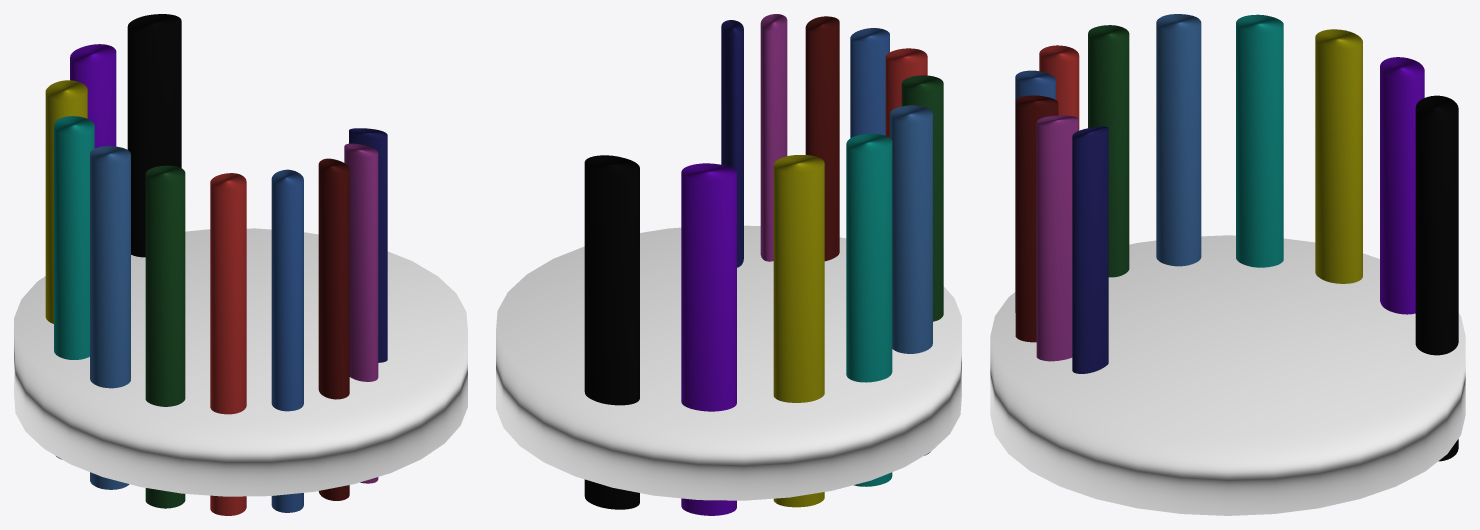
The picture shows the model from 3 angles, left to right: view 1: azimuth 30°, elevation 25°; view 2: azimuth 150°, elevation 25°; view 3: azimuth 270°, elevation 25°; orthographic projection. The views are drawn at different scales.
Visible parts, largest first — view 1: 柱体.001, 柱体.008, 柱体.007, 柱体.003, 柱体.009, 柱体.006, 柱体.010, 柱体.011, 柱体.012, 柱体.004, 柱体.005, 柱体.002; view 2: 柱体.001, 柱体.003, 柱体.004, 柱体.005, 柱体.006, 柱体.007, 柱体.011, 柱体.012, 柱体.002, 柱体.010, 柱体.008, 柱体.009; view 3: 柱体.001, 柱体.005, 柱体.006, 柱体.007, 柱体.003, 柱体.004, 柱体.012, 柱体.002, 柱体.008, 柱体.011, 柱体.009, 柱体.010.
Part boxes in pixels (x1=…): 柱体.001: x1=14, y1=228, x2=467, y2=496; 柱体.008: x1=145, y1=165, x2=185, y2=508; 柱体.007: x1=90, y1=146, x2=130, y2=489; 柱体.003: x1=127, y1=14, x2=181, y2=257; 柱体.009: x1=210, y1=173, x2=246, y2=515; 柱体.006: x1=54, y1=116, x2=94, y2=459; 柱体.010: x1=271, y1=169, x2=303, y2=512; 柱体.011: x1=318, y1=158, x2=349, y2=500; 柱体.012: x1=344, y1=143, x2=378, y2=483; 柱体.004: x1=70, y1=44, x2=116, y2=148; 柱体.005: x1=45, y1=80, x2=87, y2=323; 柱体.002: x1=349, y1=128, x2=387, y2=362; 柱体.001: x1=496, y1=225, x2=961, y2=500; 柱体.003: x1=584, y1=155, x2=639, y2=509; 柱体.004: x1=681, y1=163, x2=736, y2=515; 柱体.005: x1=773, y1=155, x2=824, y2=507; 柱体.006: x1=846, y1=133, x2=892, y2=486; 柱体.007: x1=890, y1=105, x2=932, y2=455; 柱体.011: x1=805, y1=16, x2=839, y2=261; 柱体.012: x1=760, y1=14, x2=787, y2=261; 柱体.002: x1=721, y1=20, x2=743, y2=267; 柱体.010: x1=850, y1=28, x2=889, y2=137; 柱体.008: x1=901, y1=75, x2=943, y2=321; 柱体.009: x1=885, y1=48, x2=927, y2=137; 柱体.001: x1=990, y1=235, x2=1465, y2=515; 柱体.005: x1=1315, y1=29, x2=1362, y2=283; 柱体.006: x1=1236, y1=14, x2=1283, y2=267; 柱体.007: x1=1156, y1=14, x2=1201, y2=266; 柱体.003: x1=1415, y1=95, x2=1458, y2=461; 柱体.004: x1=1380, y1=57, x2=1424, y2=314; 柱体.012: x1=1036, y1=115, x2=1078, y2=361; 柱体.002: x1=1072, y1=126, x2=1108, y2=373; 柱体.008: x1=1088, y1=25, x2=1129, y2=277; 柱体.011: x1=1015, y1=95, x2=1058, y2=342; 柱体.009: x1=1039, y1=45, x2=1079, y2=130; 柱体.010: x1=1015, y1=70, x2=1055, y2=312.
Bounding box in the file's own units: 7.1 × 5.61 × 7.1.
